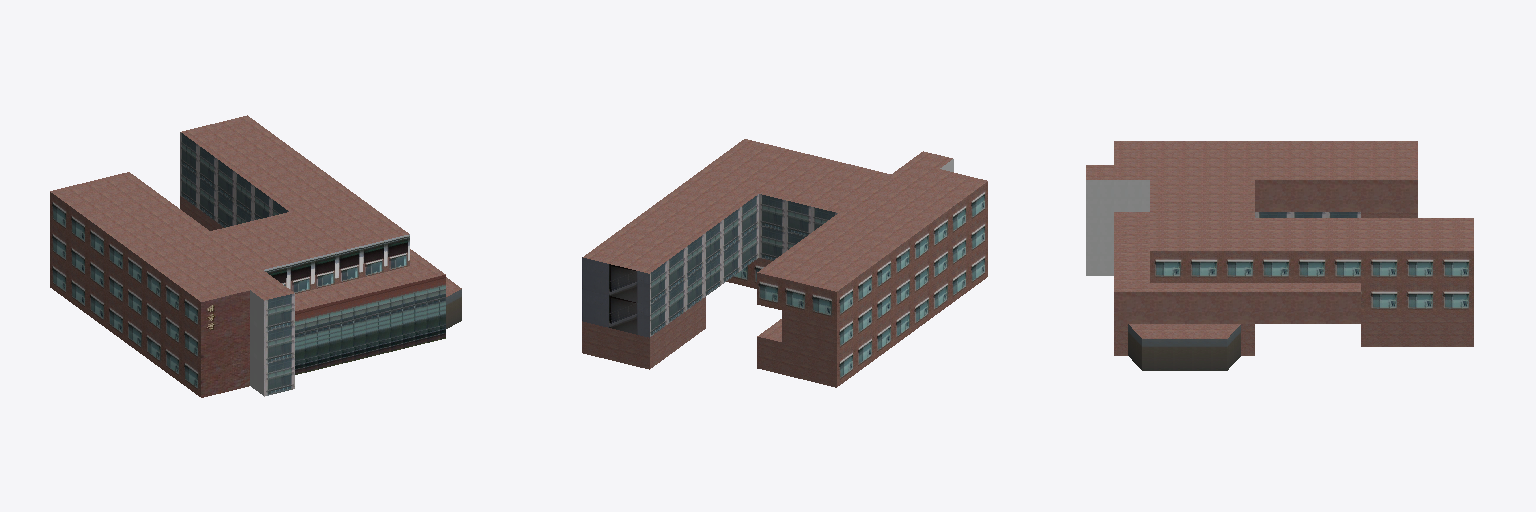
3 renders of one model, left to right at view 1: azimuth 30°, elevation 25°; view 2: azimuth 150°, elevation 25°; view 3: azimuth 270°, elevation 25°, orthographic.
Visible parts, largest first — view 1: VMtl1975, VMtl1967, VMtl1962, VMtl1966, VMtl1968, VMtl1964, VMtl1963; view 2: VMtl1975, VMtl1967, VMtl1966, VMtl1965; view 3: VMtl1975, VMtl1967, VMtl1963, VMtl1961, VMtl1966.
Part boxes in pixels (x1,y1,x2,y2): VMtl1975: (50,115,461,310); VMtl1967: (50,192,200,396); VMtl1962: (295,275,445,374); VMtl1966: (180,132,294,396); VMtl1968: (201,291,249,397); VMtl1964: (264,234,409,293); VMtl1963: (250,290,263,395); VMtl1975: (582,139,987,387); VMtl1967: (726,182,987,386); VMtl1966: (650,194,837,336); VMtl1965: (582,257,649,337); VMtl1975: (1086,141,1473,355); VMtl1967: (1150,251,1473,314); VMtl1963: (1086,180,1149,275); VMtl1961: (1128,324,1240,370); VMtl1966: (1255,212,1360,217).
Size of the model in its own units: 54.26 by 18.09 by 66.32.
Materials: 9 (9 with a texture image).